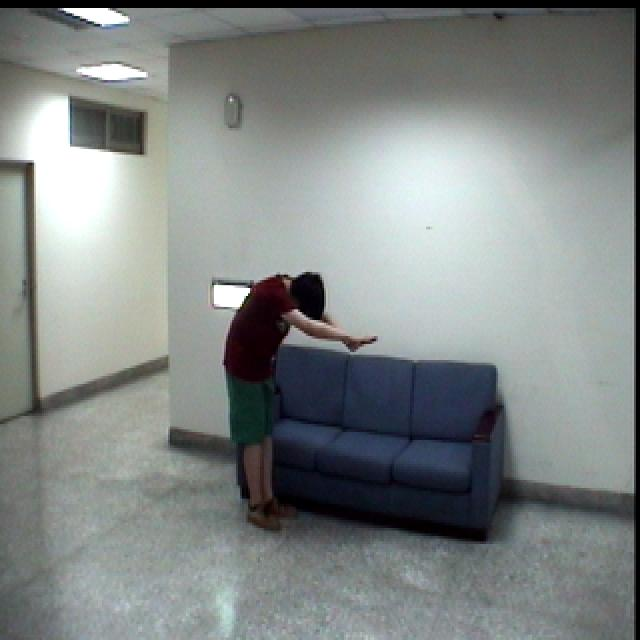bend: (225, 268, 382, 543)
